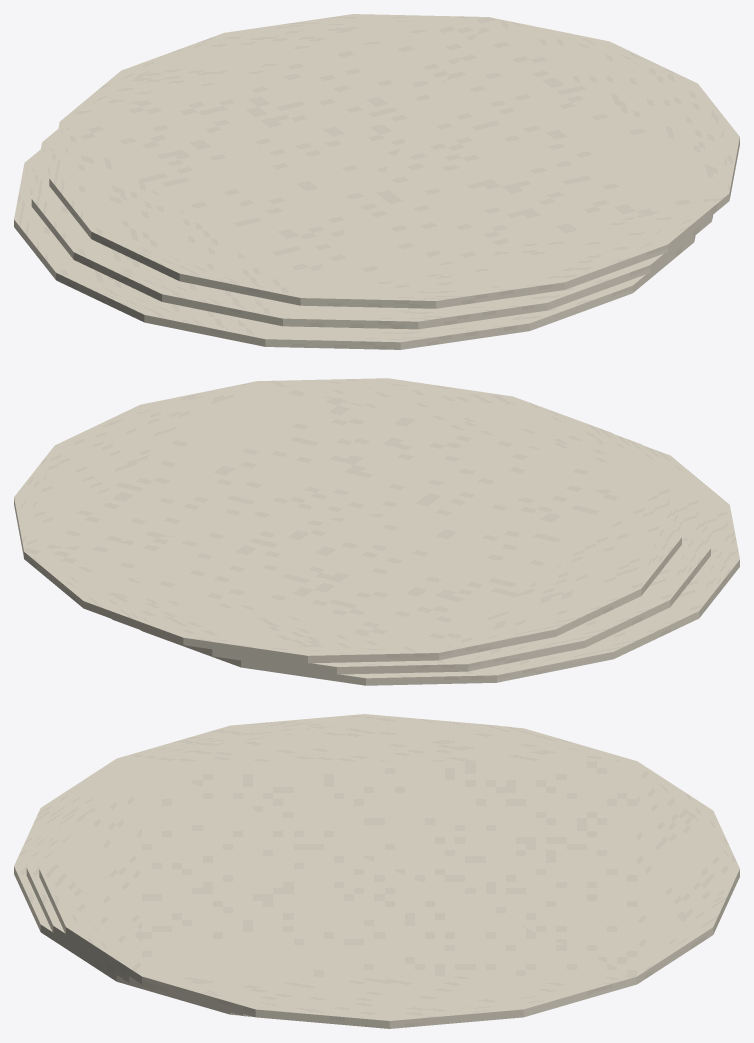
Rendered from filter_paper_quantitative.glb.
3 views of the same model, one above another, from view 1: azimuth 30°, elevation 25°; view 2: azimuth 150°, elevation 25°; view 3: azimuth 270°, elevation 25° (orthographic). The views are drawn at different scales.
Parts seen in each view (by area): view 1: block_filter paper sheet (×3); view 2: block_filter paper sheet (×3); view 3: block_filter paper sheet (×3).
Part boxes in pixels (box(x1,y1,x2,y2)): block_filter paper sheet (×3): box(14, 14, 739, 349); block_filter paper sheet (×3): box(14, 378, 739, 685); block_filter paper sheet (×3): box(14, 714, 739, 1028).
Size of the model in its own units: 0.0556 by 0.0023 by 0.0519.
1 material, 1 textured.
